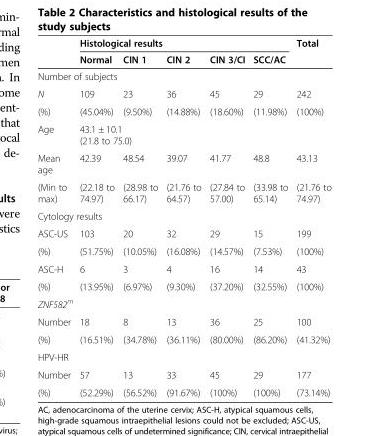table: (36, 36, 330, 397)
table column: (74, 36, 118, 397), (204, 36, 248, 397), (118, 36, 161, 397), (161, 36, 204, 397), (248, 36, 291, 397), (291, 36, 330, 397), (36, 36, 74, 397)
table column header: (36, 36, 330, 67)
table projected row header: (36, 206, 330, 224), (36, 294, 330, 312), (36, 347, 330, 365), (36, 67, 330, 84)
table row: (36, 119, 330, 148), (36, 148, 330, 177), (36, 177, 330, 206), (36, 84, 330, 102), (36, 206, 330, 224), (36, 224, 330, 242), (36, 259, 330, 277), (36, 294, 330, 312), (36, 312, 330, 330), (36, 347, 330, 365), (36, 365, 330, 383), (36, 50, 330, 67), (36, 67, 330, 84), (36, 102, 330, 119), (36, 242, 330, 259), (36, 277, 330, 294), (36, 330, 330, 347), (36, 36, 330, 50), (36, 383, 330, 397)
table spanning cell: (74, 119, 330, 148), (74, 36, 291, 50), (291, 36, 330, 67)
